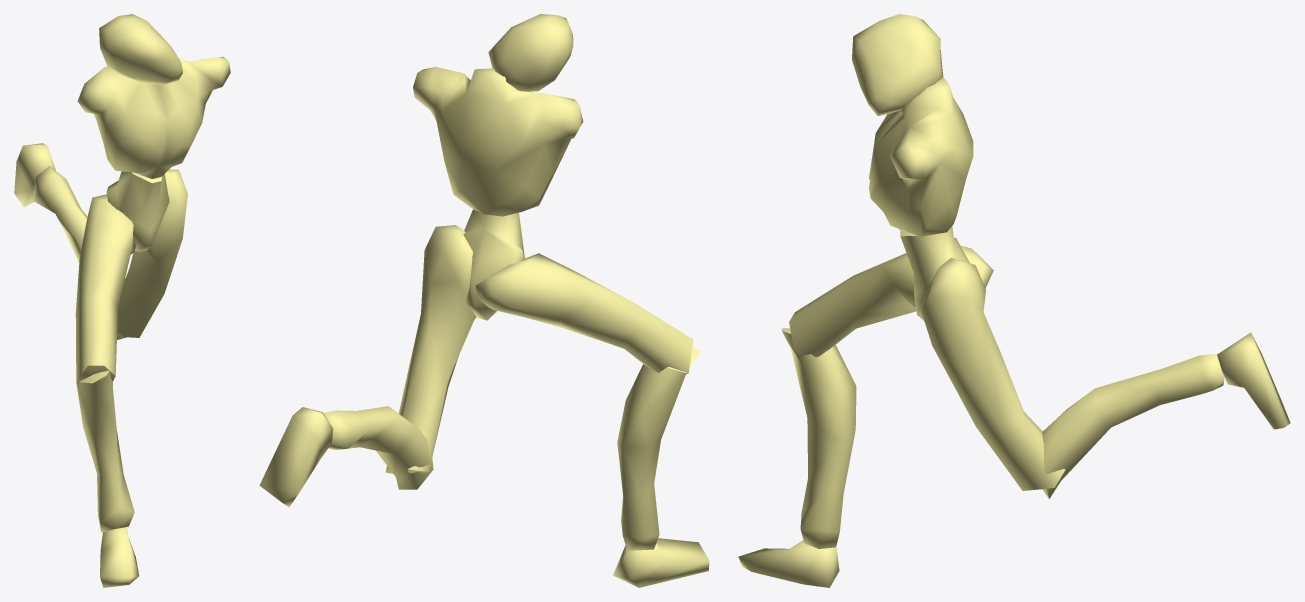
The model's file is filth17.obj.
3 renders of one model, left to right at view 1: azimuth 30°, elevation 25°; view 2: azimuth 150°, elevation 25°; view 3: azimuth 270°, elevation 25°, orthographic. The views are drawn at different scales.
Visible parts, largest first — view 1: Melee_Husk; view 2: Melee_Husk; view 3: Melee_Husk.
Boxes of the visible parts, x1,y1,x2,y2 form: Melee_Husk: [14, 14, 230, 587]; Melee_Husk: [259, 14, 709, 587]; Melee_Husk: [738, 14, 1290, 587].
Size of the model in its own units: 28.44 by 69.97 by 58.94.
